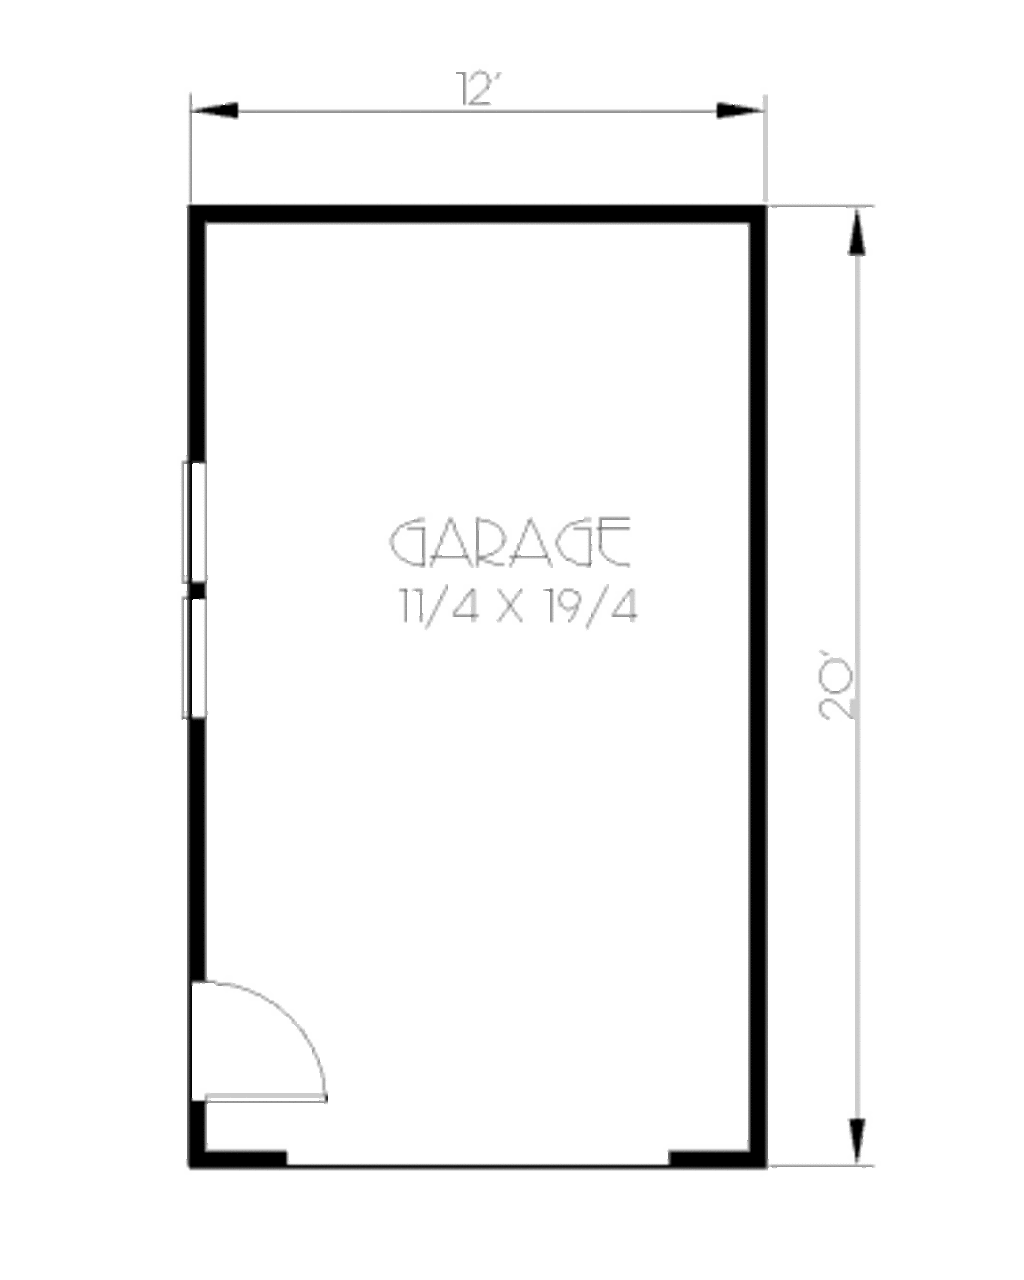door: (173, 972, 353, 1114)
window: (174, 457, 218, 590), (179, 600, 226, 719)
